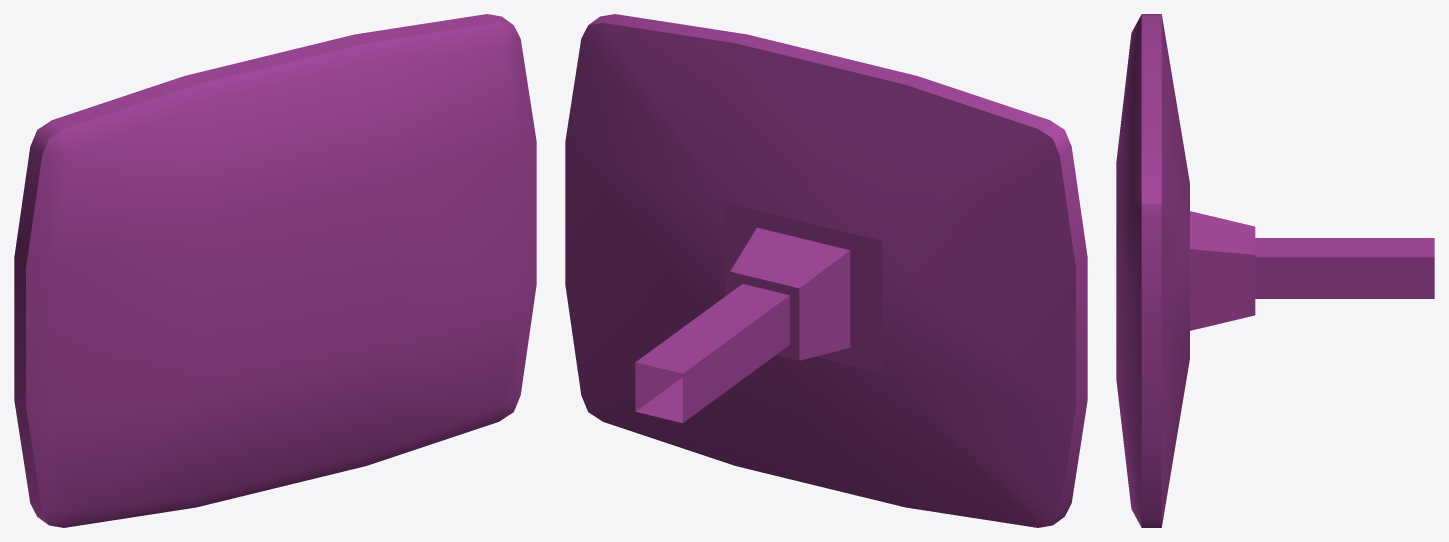
Rendered from monitor.FBX.
3 renders of one model, left to right at view 1: azimuth 30°, elevation 25°; view 2: azimuth 150°, elevation 25°; view 3: azimuth 270°, elevation 25°, orthographic. The views are drawn at different scales.
Parts seen in each view (by area): view 1: monitor; view 2: monitor, holder; view 3: monitor, holder.
Part boxes in pixels (box(x1,y1,x2,y2)): monitor: box(14, 14, 536, 527); monitor: box(565, 14, 1087, 527); holder: box(635, 284, 789, 423); monitor: box(1116, 14, 1255, 527); holder: box(1255, 238, 1434, 298).
Size of the model in its own units: 0.6482 by 0.5127 by 0.4182.
